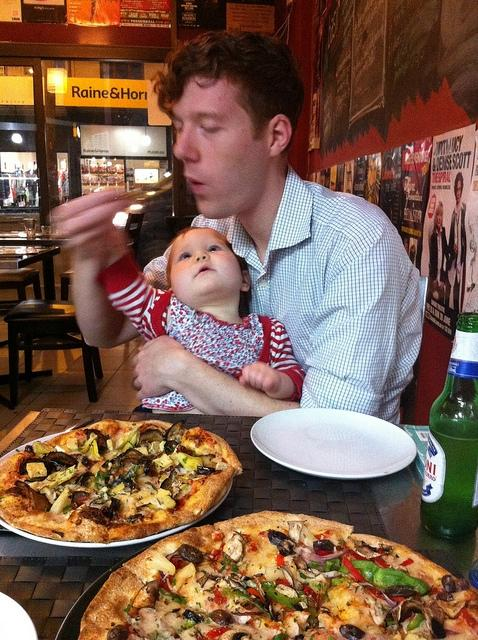onion: (292, 547, 344, 562), (398, 598, 425, 622), (370, 609, 385, 625), (381, 593, 396, 608), (298, 569, 316, 578), (302, 544, 316, 554), (160, 570, 166, 580)
